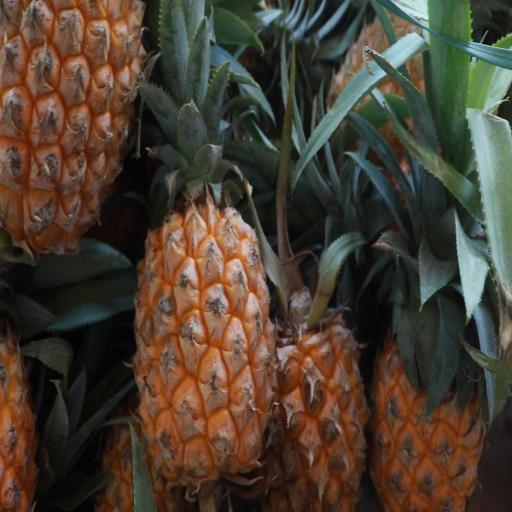Pineapple - v8 v1: (128, 133, 279, 494), (367, 187, 489, 512), (253, 251, 373, 511)
